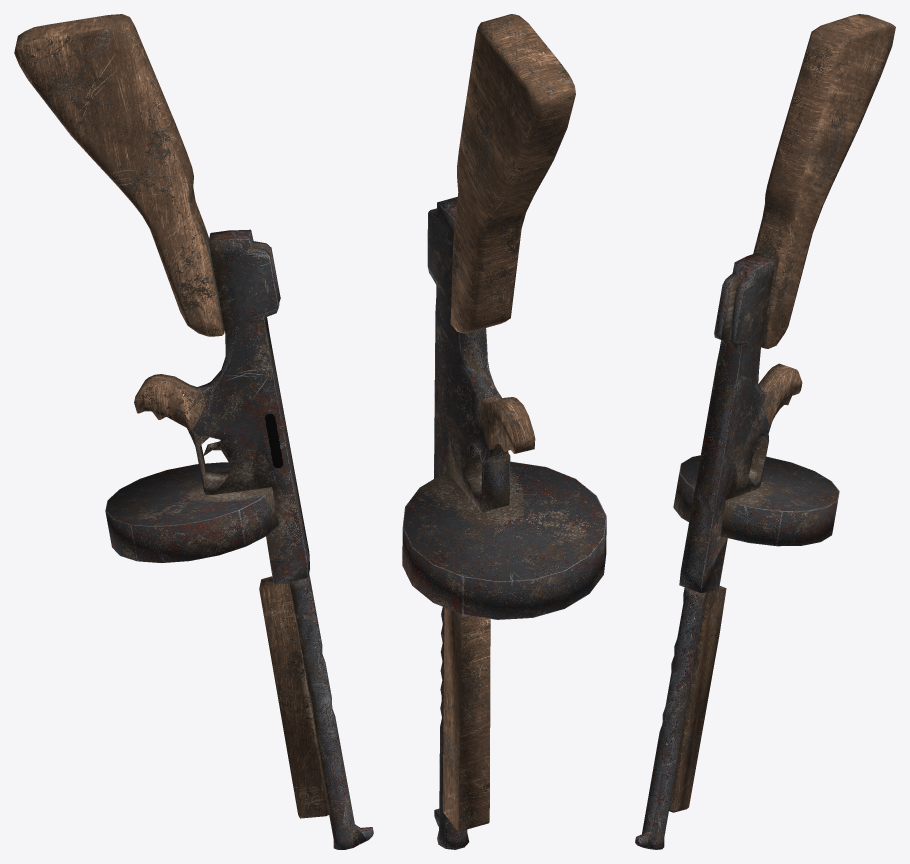
Rendered from Anim_disparar_ametralladora_objetos.0013.obj.
The picture shows the model from 3 angles, left to right: view 1: azimuth 30°, elevation 25°; view 2: azimuth 150°, elevation 25°; view 3: azimuth 270°, elevation 25°; orthographic projection. The views are drawn at different scales.
Parts seen in each view (by area): view 1: Ametralladora1; view 2: Ametralladora1; view 3: Ametralladora1.
Part boxes in pixels (left/top/right/bottom): Ametralladora1: left=14, top=14, right=373, bottom=849; Ametralladora1: left=402, top=14, right=606, bottom=849; Ametralladora1: left=635, top=14, right=895, bottom=849.
Bounding box in the file's own units: 1.83 × 5.83 × 1.83.
